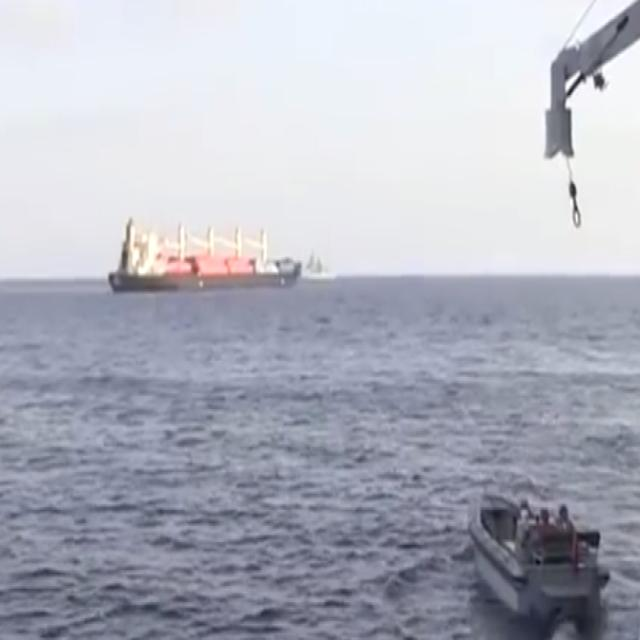cargoship: (105, 214, 299, 296)
houseboat: (468, 474, 611, 628)
